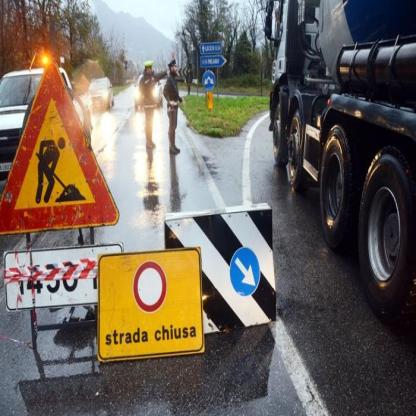person: (154, 50, 192, 163), (133, 53, 165, 162)
